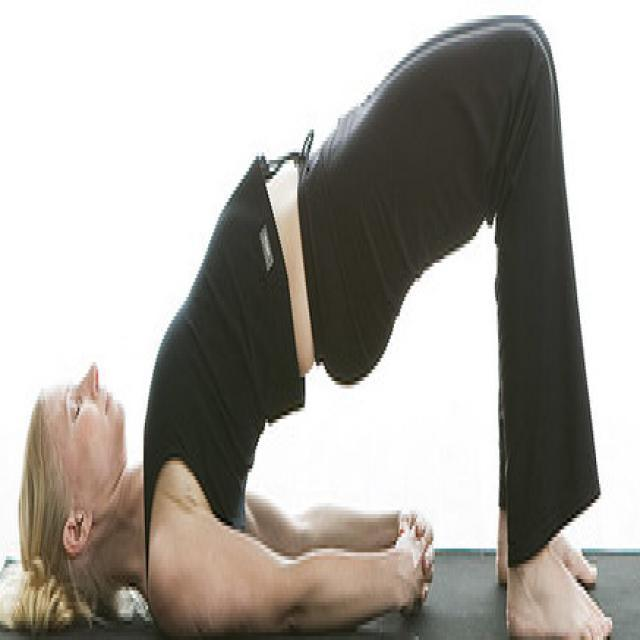yoga-pose bridge: (21, 29, 604, 634)
